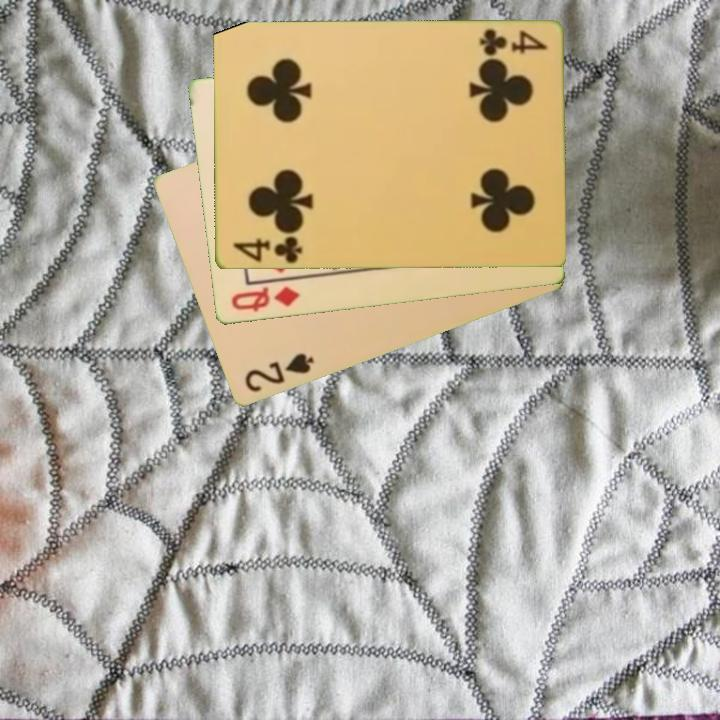2s: (241, 350, 317, 396)
4c: (475, 25, 550, 59), (229, 233, 304, 266)
Qd: (227, 283, 303, 315)
